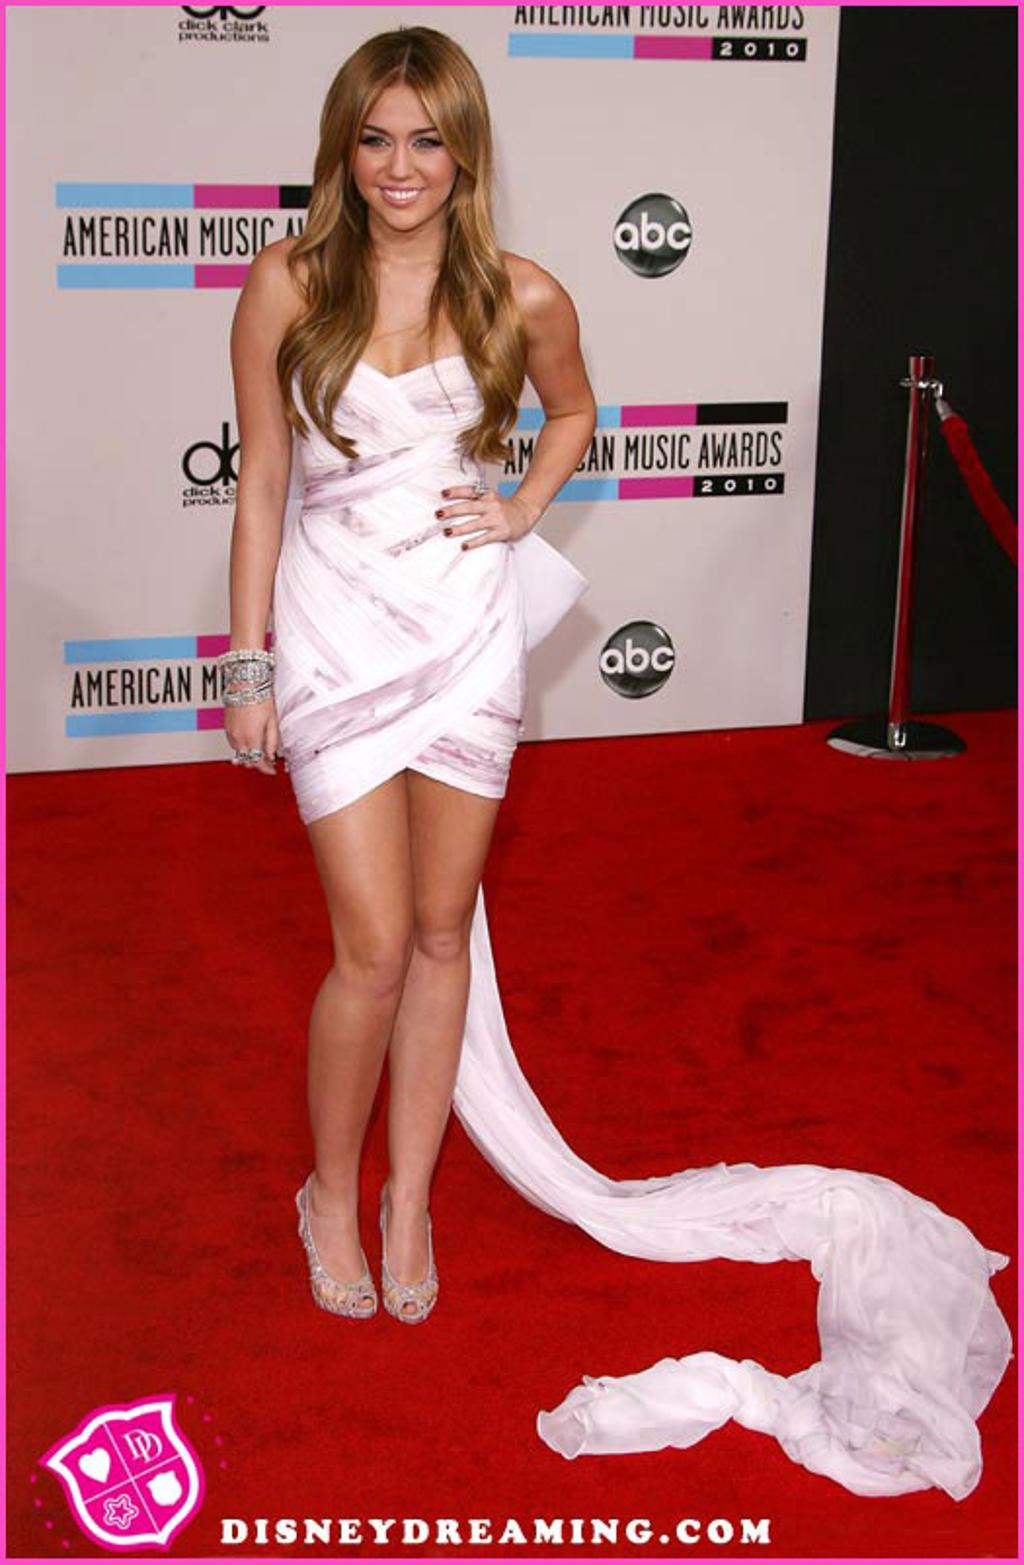face: (348, 86, 461, 230)
